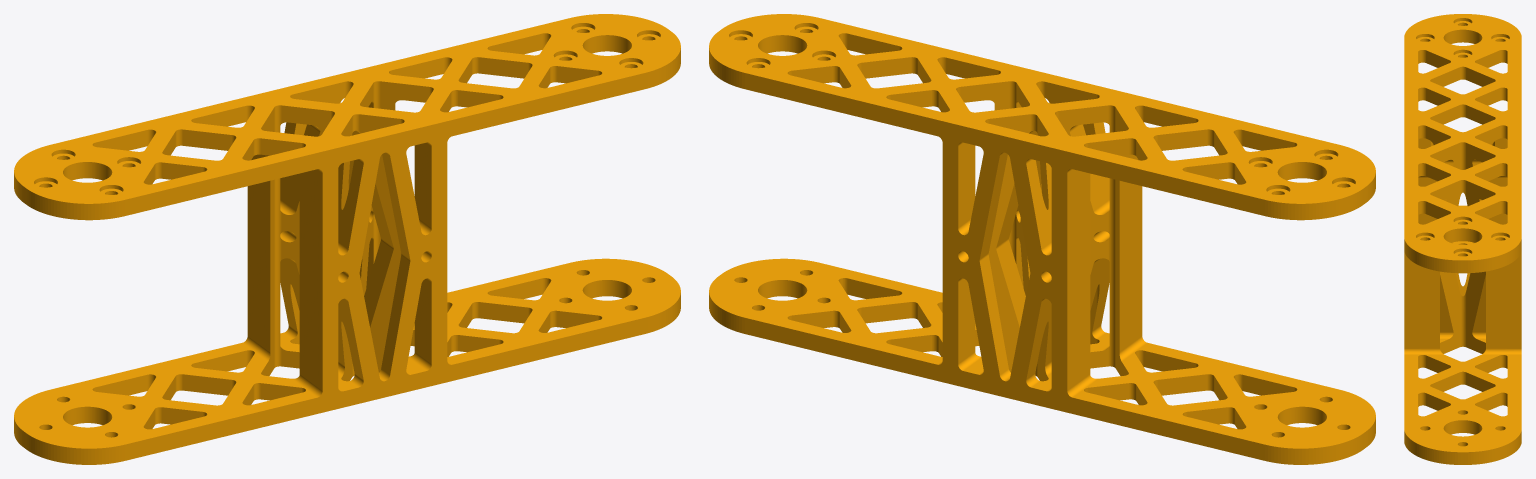
File: Femur.dae
3 views of the same model, side by side, from view 1: azimuth 30°, elevation 25°; view 2: azimuth 150°, elevation 25°; view 3: azimuth 270°, elevation 25° (orthographic). The views are drawn at different scales.
Visible parts, largest first — view 1: node0; view 2: node0; view 3: node0.
Boxes of the visible parts, x1,y1,x2,y2 form: node0: (14, 14, 680, 464); node0: (709, 14, 1375, 464); node0: (1404, 14, 1521, 464).
Bounding box in the file's own units: 0.124 × 0.025 × 0.048.
